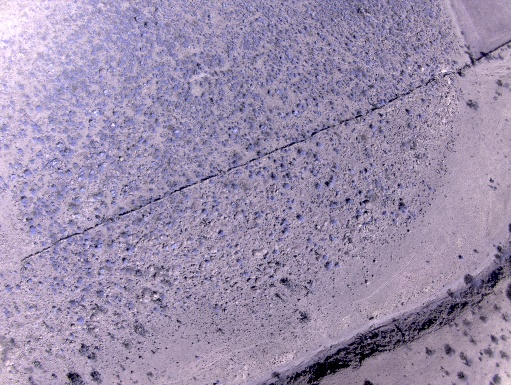agave: (91, 237, 104, 253), (170, 128, 183, 141), (47, 158, 62, 168), (280, 226, 291, 239), (81, 232, 90, 247), (327, 175, 338, 187), (105, 256, 116, 267), (278, 218, 290, 228), (399, 204, 411, 214), (269, 172, 280, 182), (246, 143, 256, 154), (359, 168, 372, 176), (323, 261, 333, 271), (315, 140, 325, 150), (200, 91, 210, 101), (20, 197, 29, 208), (367, 123, 378, 132), (259, 123, 270, 132), (320, 253, 330, 262), (329, 200, 339, 209), (297, 148, 306, 158), (29, 226, 38, 236), (60, 127, 71, 135), (77, 316, 86, 325), (278, 163, 287, 172), (76, 276, 85, 285), (134, 108, 143, 117), (35, 104, 44, 113), (125, 247, 133, 257), (185, 178, 195, 186), (315, 182, 323, 191), (345, 198, 354, 206), (331, 218, 339, 227), (248, 172, 257, 180), (231, 183, 239, 192), (232, 159, 240, 168), (110, 200, 119, 208), (84, 260, 93, 268), (217, 230, 227, 237), (23, 169, 33, 176), (283, 181, 291, 189), (27, 218, 35, 226), (314, 154, 322, 162), (256, 151, 264, 159), (166, 222, 174, 230), (79, 187, 87, 195), (297, 214, 304, 223), (122, 257, 129, 266), (261, 166, 270, 173), (377, 119, 386, 126), (267, 88, 274, 97), (183, 97, 192, 104), (49, 127, 58, 134), (16, 147, 25, 154), (334, 262, 342, 269), (256, 170, 264, 177), (119, 206, 126, 214), (406, 110, 414, 117), (66, 169, 73, 177), (202, 208, 209, 215), (98, 267, 105, 274), (228, 133, 235, 140), (55, 282, 62, 289), (382, 211, 389, 218), (272, 250, 280, 256), (134, 144, 140, 152), (397, 184, 405, 190), (144, 112, 150, 120), (173, 65, 179, 73), (154, 148, 162, 154), (37, 224, 44, 230), (288, 207, 295, 213), (292, 111, 299, 117), (144, 141, 151, 147), (27, 278, 33, 285), (25, 263, 31, 270), (150, 112, 156, 119), (146, 79, 153, 85), (71, 187, 78, 193), (171, 243, 177, 249), (391, 212, 397, 218), (113, 111, 119, 117), (118, 125, 124, 131), (98, 75, 104, 81), (220, 97, 225, 104), (99, 152, 106, 157), (298, 103, 303, 109), (237, 259, 242, 265)
